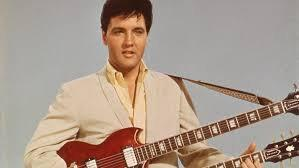Drunk: (111, 13, 144, 67)
